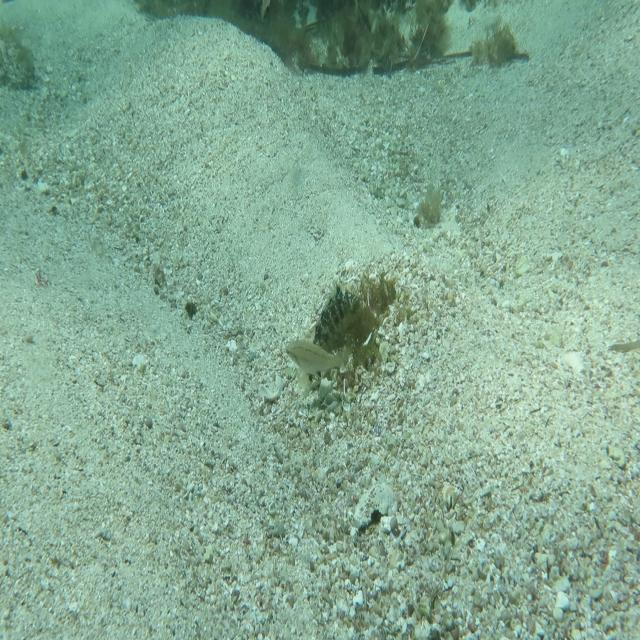BEND: (297, 274, 366, 398)
female: (283, 332, 352, 378)
nest: (298, 256, 393, 390)
other_fish: (254, 0, 272, 33)
vegetation: (255, 0, 524, 71), (410, 172, 443, 227)
